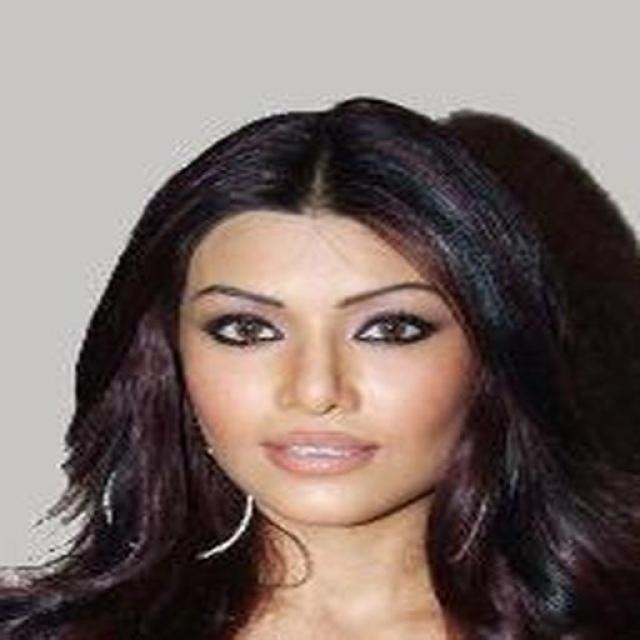bareface: (177, 198, 492, 530)
